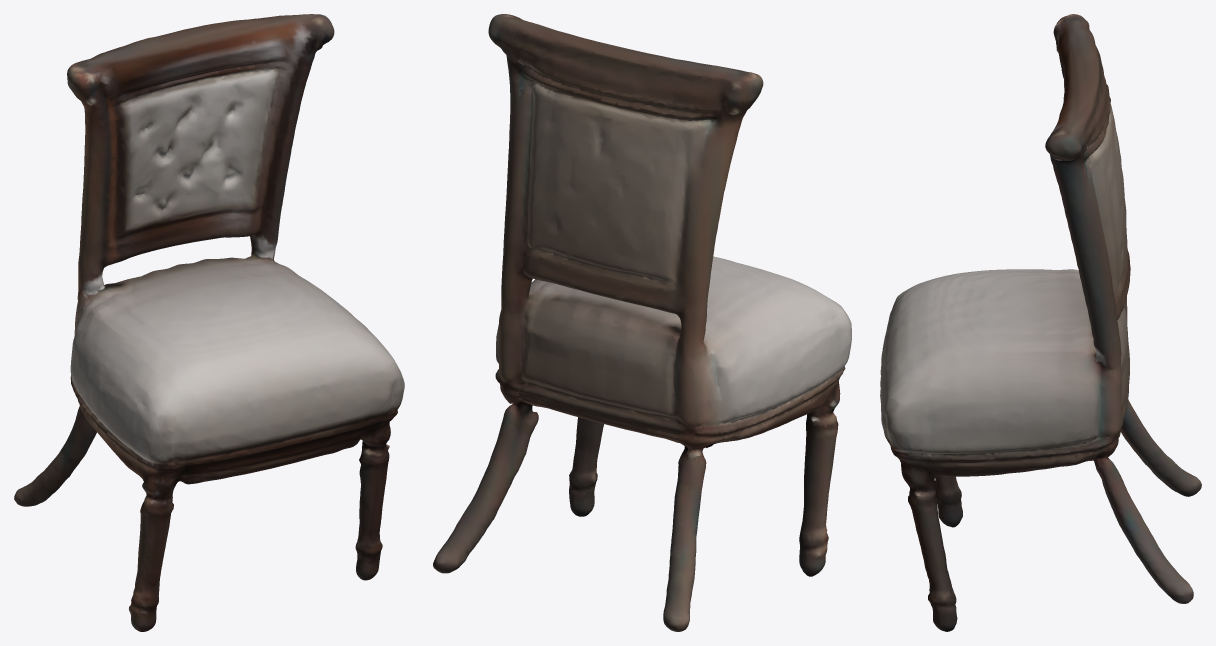
The model's file is chair.glb.
3 renders of one model, left to right at view 1: azimuth 30°, elevation 25°; view 2: azimuth 150°, elevation 25°; view 3: azimuth 270°, elevation 25°, orthographic. The views are drawn at different scales.
Parts seen in each view (by area): view 1: Modelado; view 2: Modelado; view 3: Modelado.
Part boxes in pixels (x1,y1,x2,y2): Modelado: (14, 14, 404, 631); Modelado: (433, 14, 851, 631); Modelado: (880, 14, 1201, 631).
Size of the model in its own units: 0.5684 by 1.07 by 0.6114.
